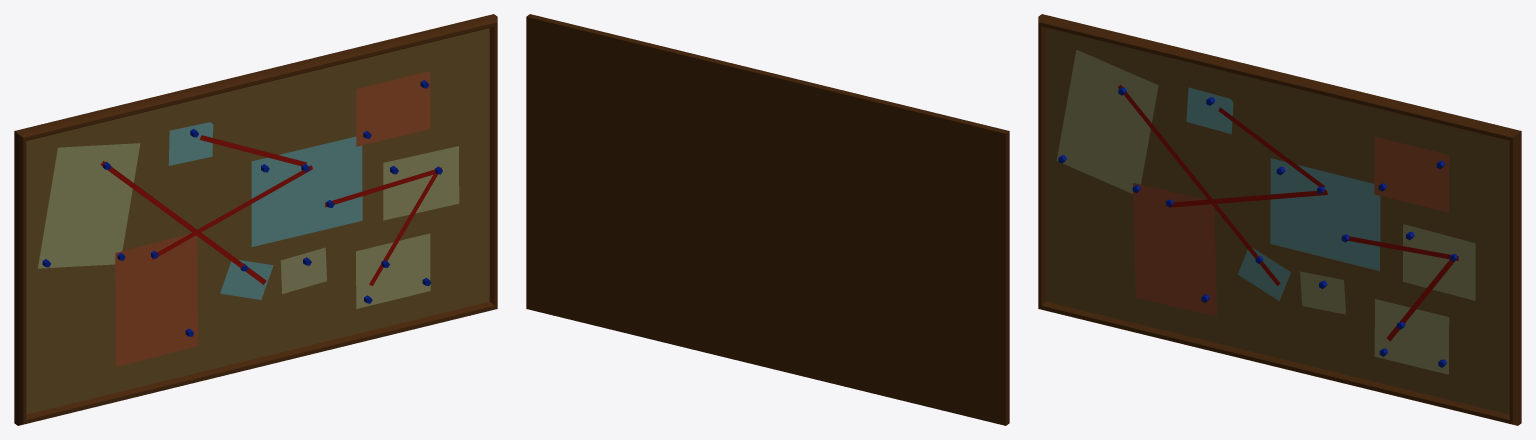
File: EvidenceBoard-Office_01.fbx
The picture shows the model from 3 angles, left to right: view 1: azimuth 30°, elevation 25°; view 2: azimuth 150°, elevation 25°; view 3: azimuth 330°, elevation 25°; orthographic projection.
Visible parts, largest first — view 1: Evidence_Board; view 2: Evidence_Board; view 3: Evidence_Board.
Part boxes in pixels (box(x1,y1,x2,y2)): Evidence_Board: box(14, 14, 497, 425); Evidence_Board: box(526, 14, 1009, 425); Evidence_Board: box(1038, 14, 1521, 425).
Size of the model in its own units: 211 by 123 by 5.7.
